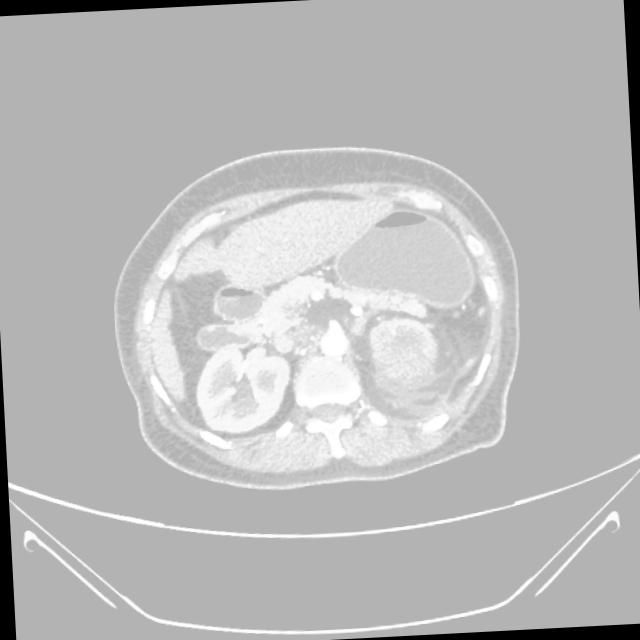TUMOR: (104, 168, 565, 459)
